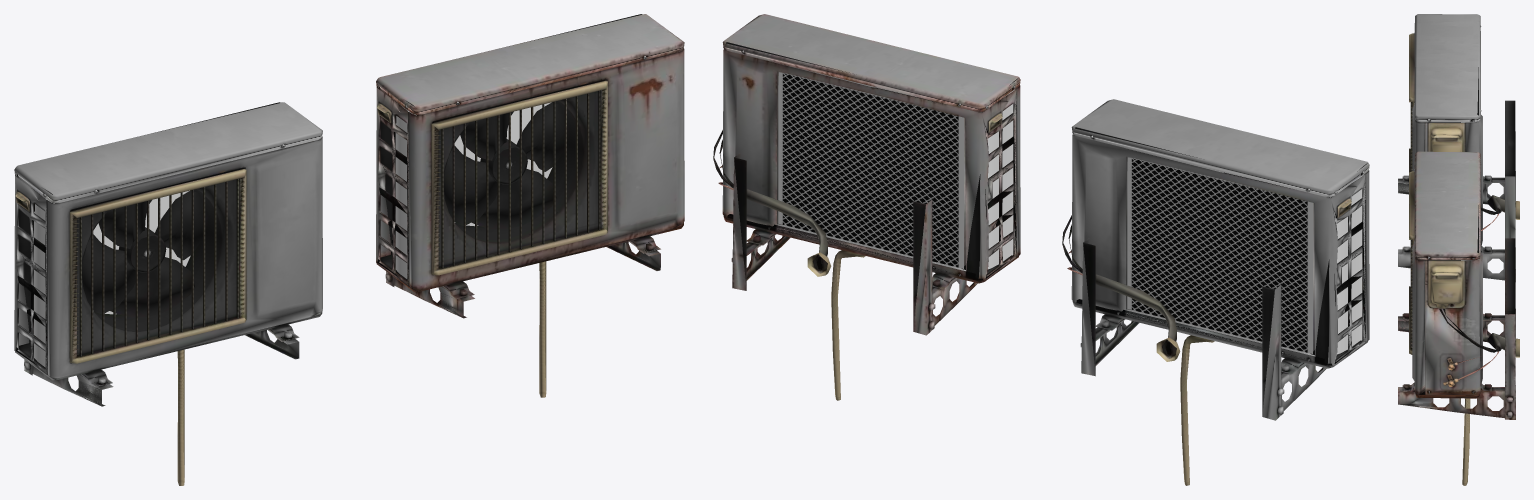
Rendered from exterior_aircon_unit.glb.
3 views of the same model, side by side, from view 1: azimuth 30°, elevation 25°; view 2: azimuth 150°, elevation 25°; view 3: azimuth 270°, elevation 25° (orthographic). The views are drawn at different scales.
Parts seen in each view (by area): view 1: exterior_aircon_unit_rusted, exterior_aircon_unit; view 2: exterior_aircon_unit, exterior_aircon_unit_rusted; view 3: exterior_aircon_unit_rusted, exterior_aircon_unit.
Boxes of the visible parts, bbox=[...] form: exterior_aircon_unit_rusted: bbox=[376, 14, 684, 397]; exterior_aircon_unit: bbox=[14, 102, 322, 485]; exterior_aircon_unit: bbox=[1062, 99, 1369, 485]; exterior_aircon_unit_rusted: bbox=[713, 14, 1020, 400]; exterior_aircon_unit_rusted: bbox=[1398, 151, 1519, 485]; exterior_aircon_unit: bbox=[1398, 14, 1519, 281].
Size of the model in its own units: 1.8 by 0.9279 by 0.3742.
Materials: 4 (4 with a texture image).
